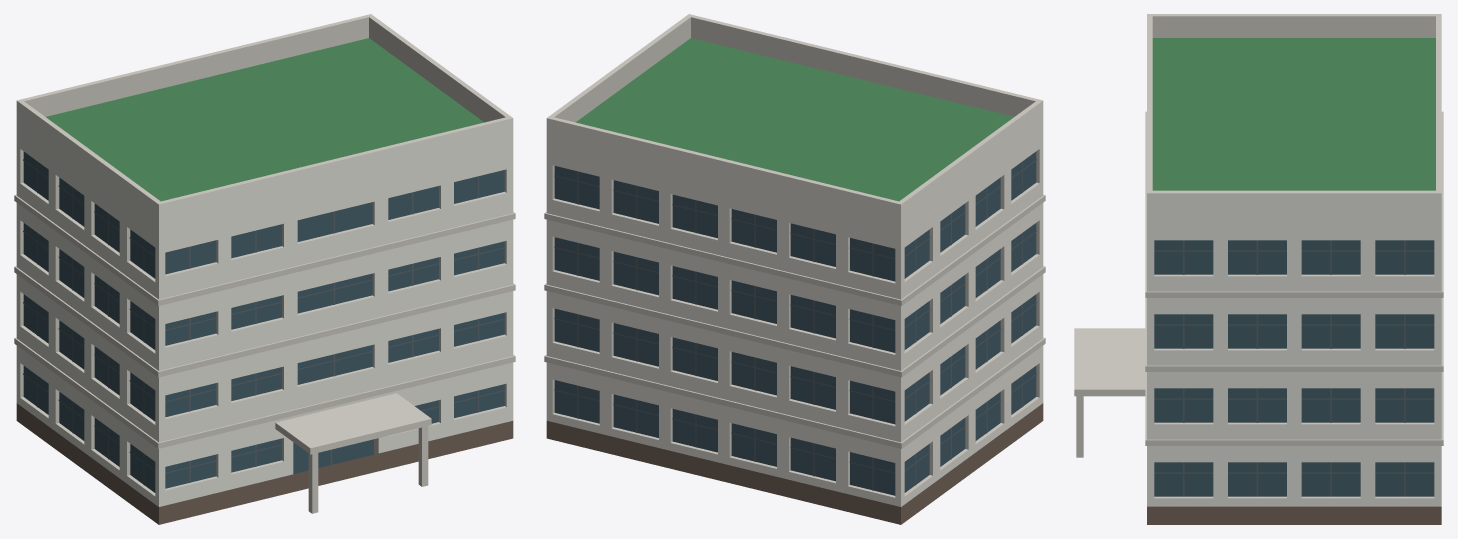
3 views of the same model, side by side, from view 1: azimuth 30°, elevation 25°; view 2: azimuth 150°, elevation 25°; view 3: azimuth 270°, elevation 25° (orthographic). The views are drawn at different scales.
Visible parts, largest first — view 1: wing4__wall-plaster, wing4__roof, wing4__glass, wing4__trim-concrete, wing4__base-stone, wing4__canopy-concrete, wing4__frame; view 2: wing4__wall-plaster, wing4__glass, wing4__roof, wing4__trim-concrete, wing4__base-stone, wing4__frame; view 3: wing4__wall-plaster, wing4__roof, wing4__glass, wing4__trim-concrete, wing4__base-stone, wing4__canopy-concrete, wing4__frame.
Part boxes in pixels (x1,y1,x2,y2): wing4__wall-plaster: [16, 101, 513, 506]; wing4__roof: [46, 38, 484, 201]; wing4__glass: [23, 151, 504, 492]; wing4__trim-concrete: [14, 14, 515, 495]; wing4__base-stone: [16, 403, 513, 524]; wing4__canopy-concrete: [275, 393, 431, 513]; wing4__frame: [23, 159, 504, 485]; wing4__wall-plaster: [546, 101, 1043, 506]; wing4__glass: [554, 151, 1036, 495]; wing4__roof: [575, 38, 1013, 201]; wing4__trim-concrete: [544, 14, 1045, 497]; wing4__base-stone: [546, 403, 1043, 524]; wing4__frame: [554, 159, 1036, 490]; wing4__wall-plaster: [1147, 193, 1441, 506]; wing4__roof: [1152, 38, 1435, 190]; wing4__glass: [1154, 240, 1434, 496]; wing4__trim-concrete: [1145, 14, 1443, 498]; wing4__base-stone: [1147, 506, 1441, 524]; wing4__canopy-concrete: [1074, 328, 1145, 457]; wing4__frame: [1154, 240, 1434, 496].
Size of the model in its own units: 18.86 by 16.15 by 16.28.
